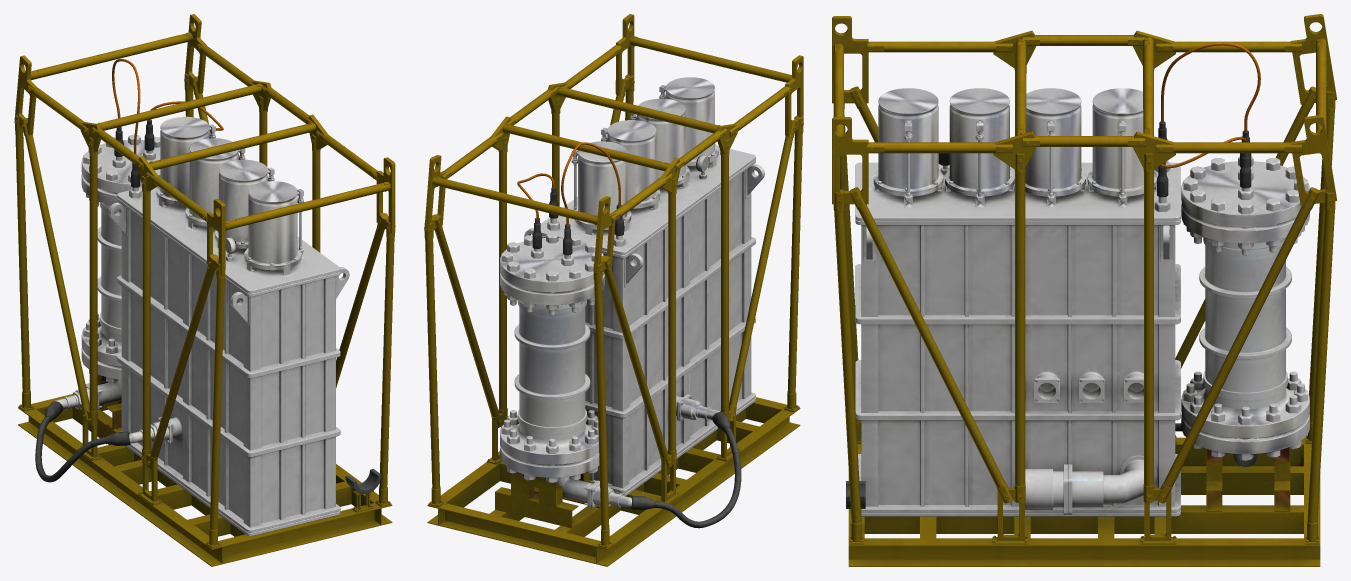
The model's file is BYQ.FBX.
3 views of the same model, side by side, from view 1: azimuth 30°, elevation 25°; view 2: azimuth 150°, elevation 25°; view 3: azimuth 270°, elevation 25° (orthographic). The views are drawn at different scales.
Visible parts, largest first — view 1: 变压器; view 2: 变压器; view 3: 变压器.
Part boxes in pixels (x1=…): 变压器: x1=14, y1=14, x2=395, y2=566; 变压器: x1=424, y1=14, x2=803, y2=566; 变压器: x1=832, y1=14, x2=1336, y2=566.
Bounding box in the file's own units: 1.6 × 2.52 × 2.52.
2 materials, 2 textured.
